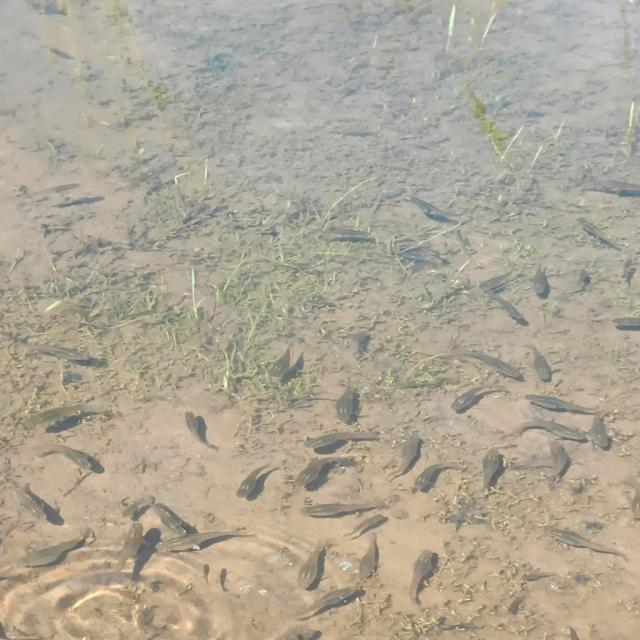Sivrisinek Baligi: (543, 519, 630, 571), (298, 498, 404, 522), (37, 441, 100, 475), (293, 457, 351, 491), (8, 483, 55, 522), (182, 408, 222, 452), (451, 381, 504, 414), (409, 544, 436, 602), (237, 458, 275, 498), (296, 543, 326, 591), (388, 432, 418, 479), (525, 342, 558, 384), (336, 378, 364, 426), (478, 444, 507, 490), (266, 342, 302, 377), (545, 438, 569, 487), (528, 262, 554, 300)
